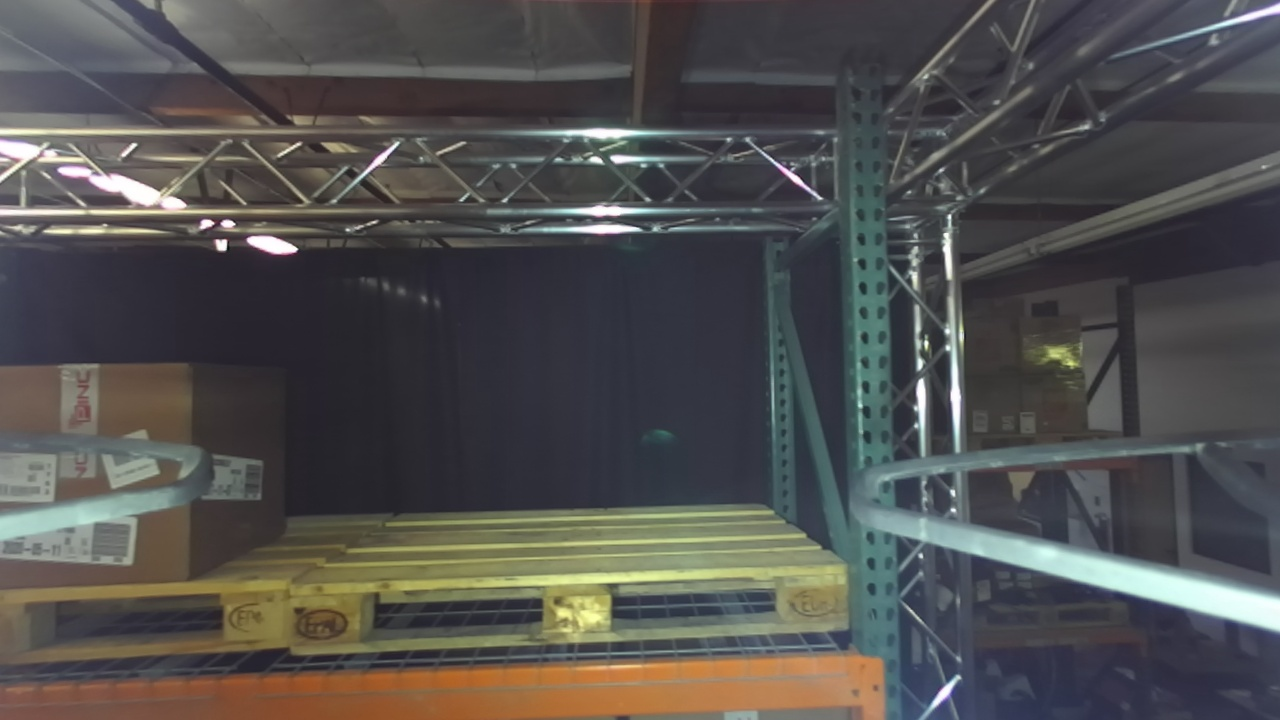box: (3, 347, 218, 615)
